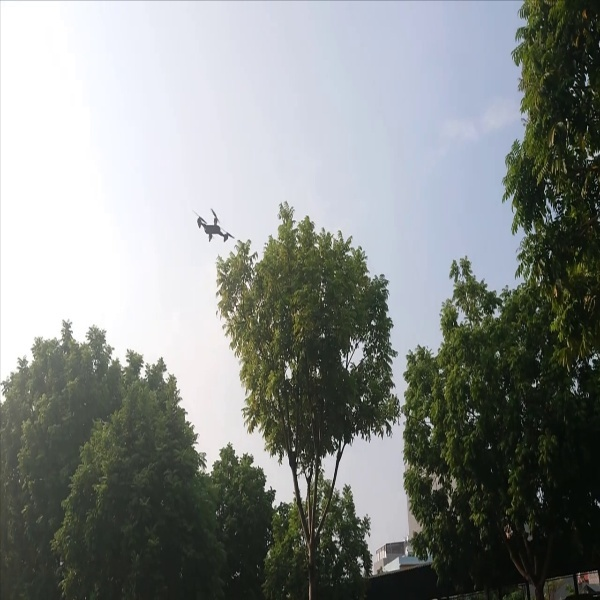drone: (192, 206, 232, 245)
